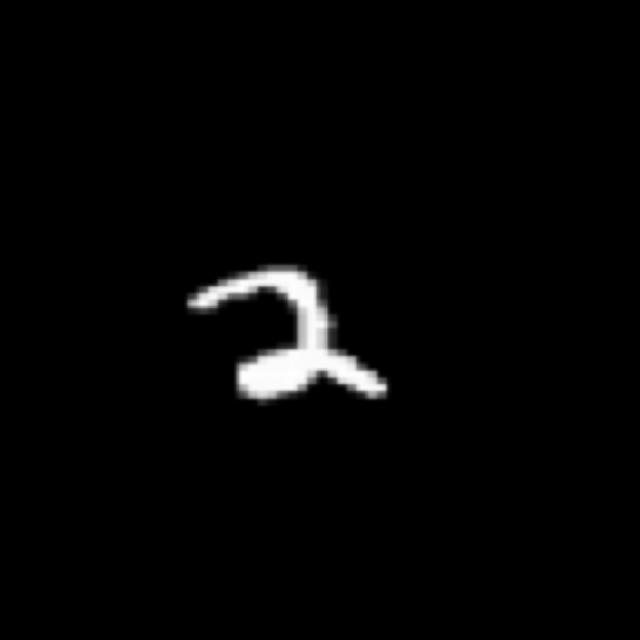two -2-: (172, 260, 400, 413)
